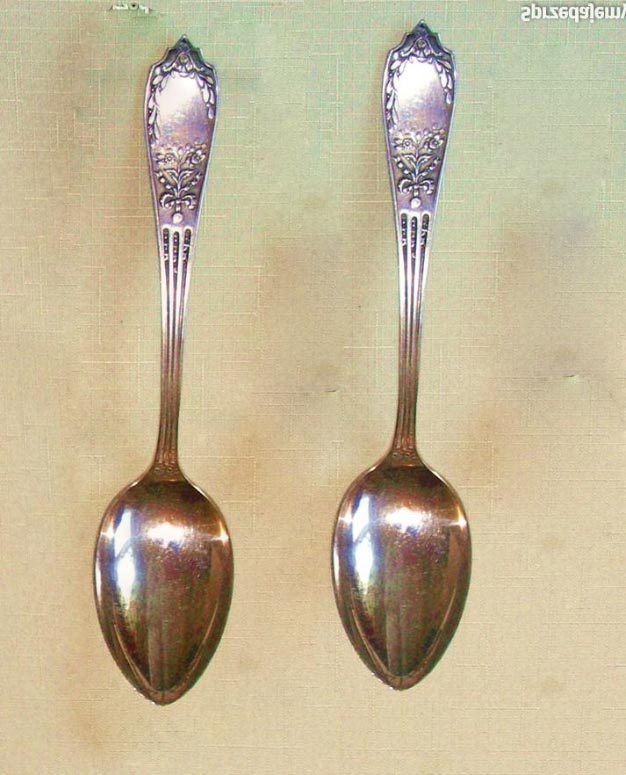Lyzka: (85, 476, 246, 714), (326, 464, 479, 696)
